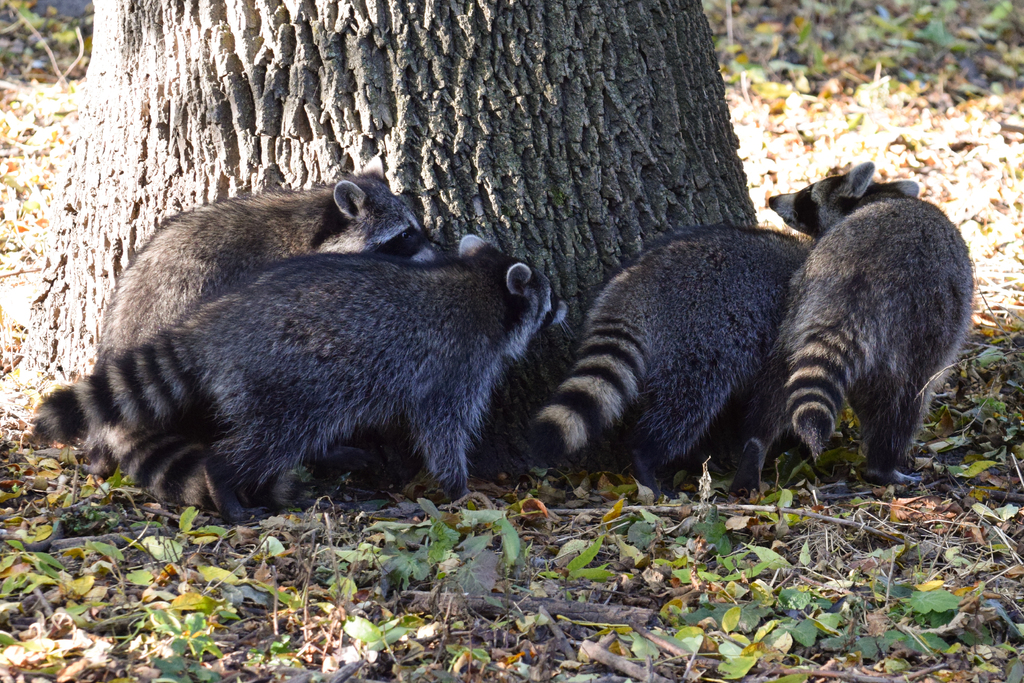raccoon: (35, 230, 566, 511), (741, 164, 977, 487), (537, 228, 814, 488), (96, 175, 445, 360)
